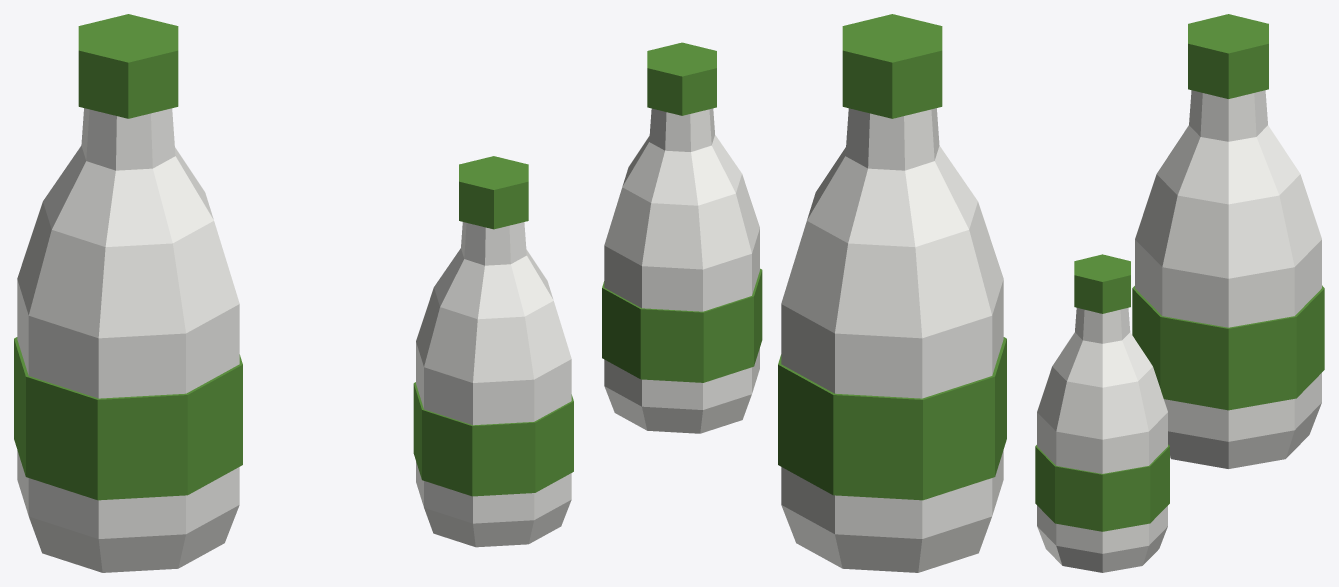
Rendered from goat-milk.glb.
3 renders of one model, left to right at view 1: azimuth 30°, elevation 25°; view 2: azimuth 150°, elevation 25°; view 3: azimuth 270°, elevation 25°, orthographic. The views are drawn at different scales.
Visible parts, largest first — view 1: goat-milk; view 2: goat-milk; view 3: goat-milk.
Boxes of the visible parts, x1,y1,x2,y2 form: goat-milk: (14, 14, 573, 572); goat-milk: (602, 14, 1006, 572); goat-milk: (1035, 14, 1324, 572).
Size of the model in its own units: 0.241 by 0.246 by 0.1609.
Materials: 1 (1 with a texture image).
